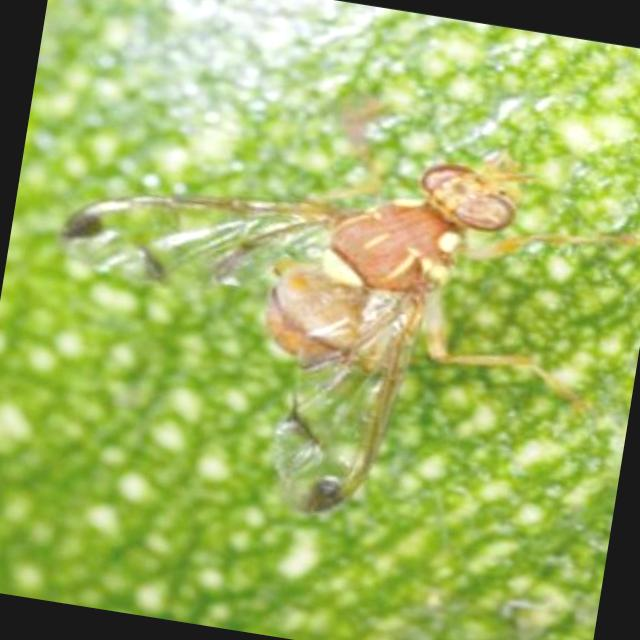melon fly: (0, 16, 634, 594)
